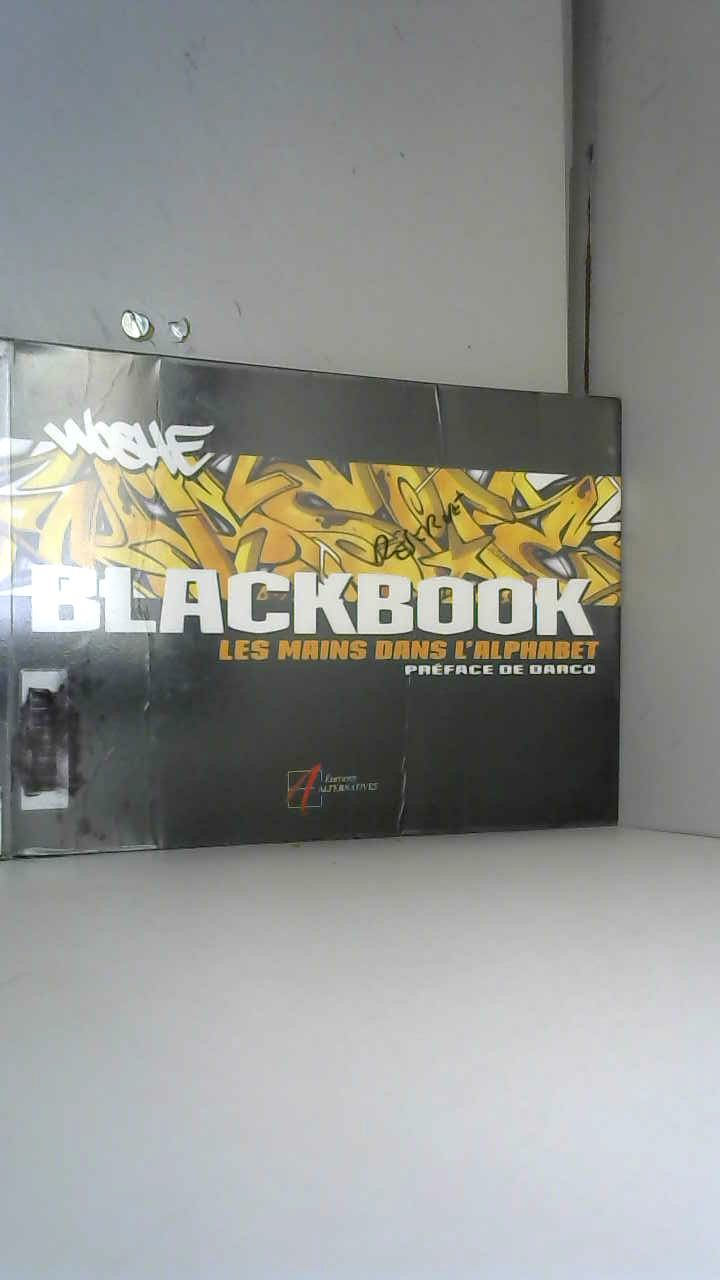book: (0, 310, 647, 893)
